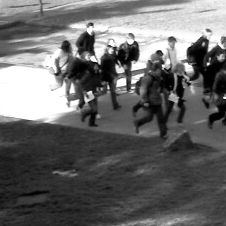person: (134, 61, 168, 137), (51, 37, 75, 110), (165, 63, 191, 126), (189, 25, 213, 93), (68, 51, 91, 110), (80, 62, 101, 126), (100, 45, 121, 108), (203, 52, 226, 107), (120, 31, 139, 94), (208, 68, 226, 130), (207, 34, 226, 87), (76, 22, 99, 62), (144, 47, 165, 84), (106, 36, 122, 68), (165, 34, 179, 66)
